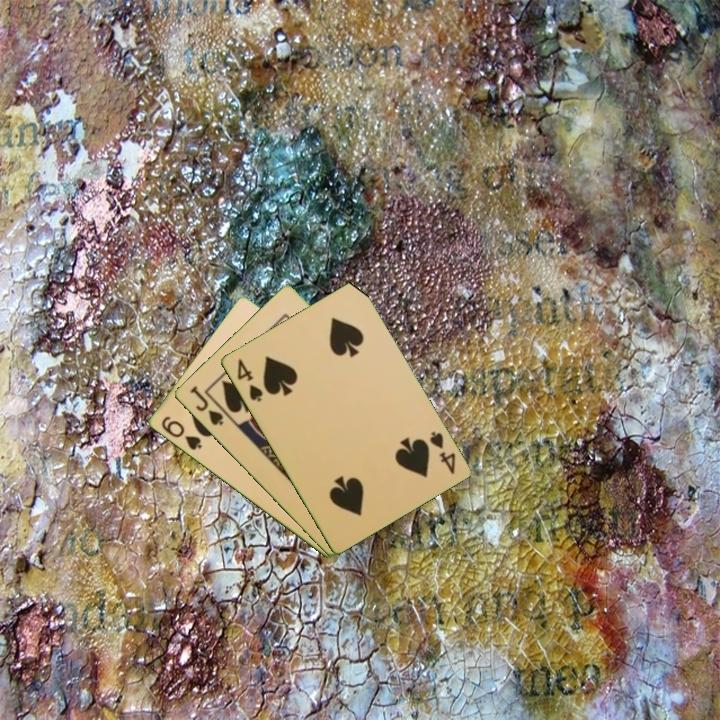4s: (233, 355, 265, 405), (426, 428, 458, 477)
6s: (157, 413, 204, 453)
Js: (186, 382, 226, 429)
